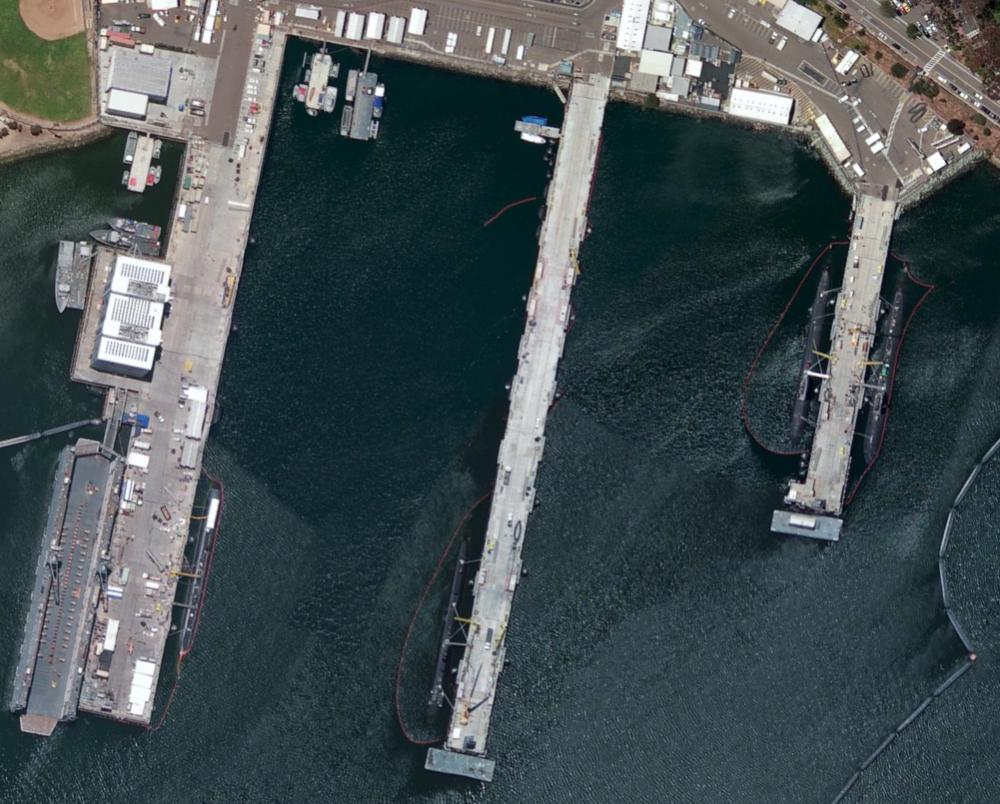submarine: (782, 256, 837, 455), (420, 536, 478, 719), (176, 488, 229, 664), (864, 282, 908, 475)
